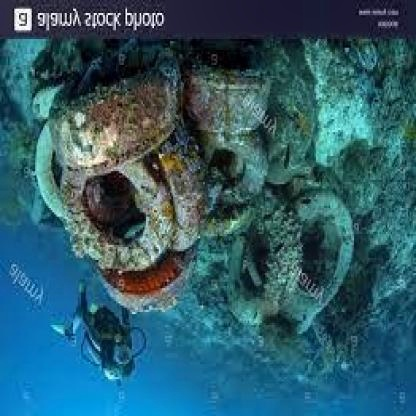tire: (51, 147, 170, 271), (210, 186, 298, 338), (54, 63, 189, 160), (282, 173, 360, 336), (78, 253, 194, 323), (146, 128, 205, 251), (178, 61, 281, 130), (192, 126, 275, 197), (29, 113, 68, 219)
